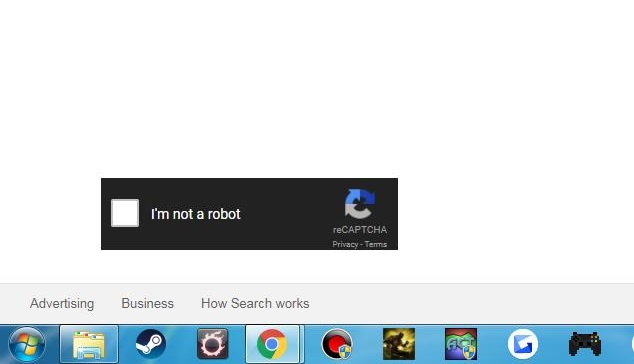captcha: (110, 199, 242, 226)
